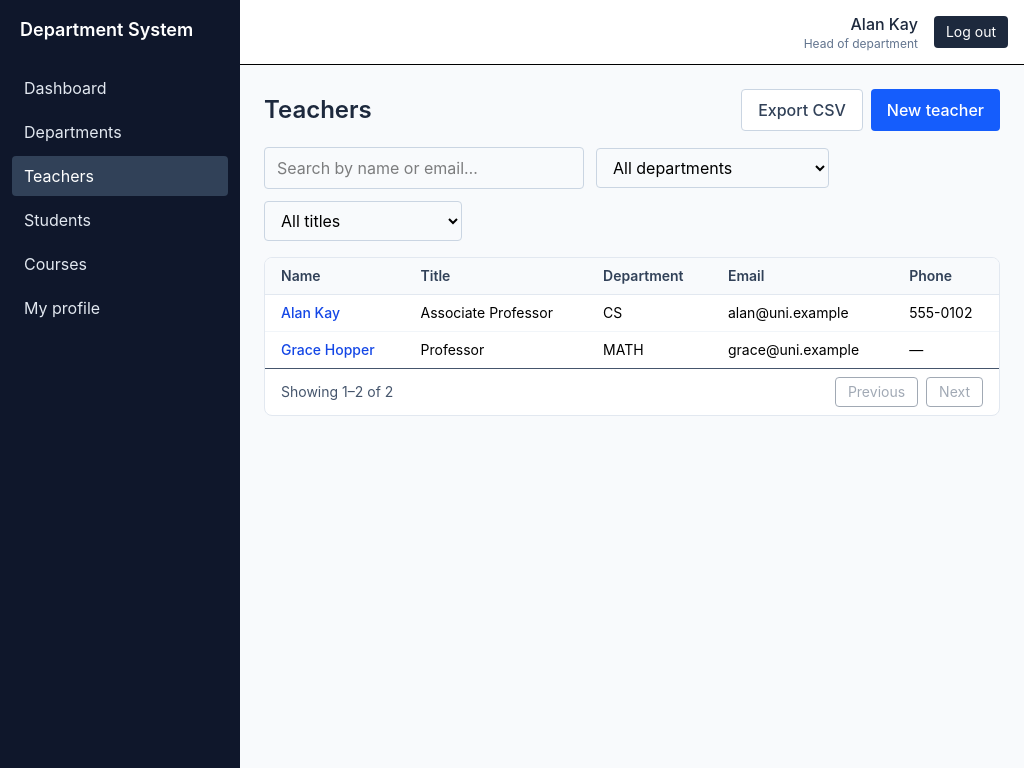
Test case: Teacher form (create) › a HOD can only pick their own department
Click the button "New teacher".
click(935, 110)  # box [871,89,1000,131]
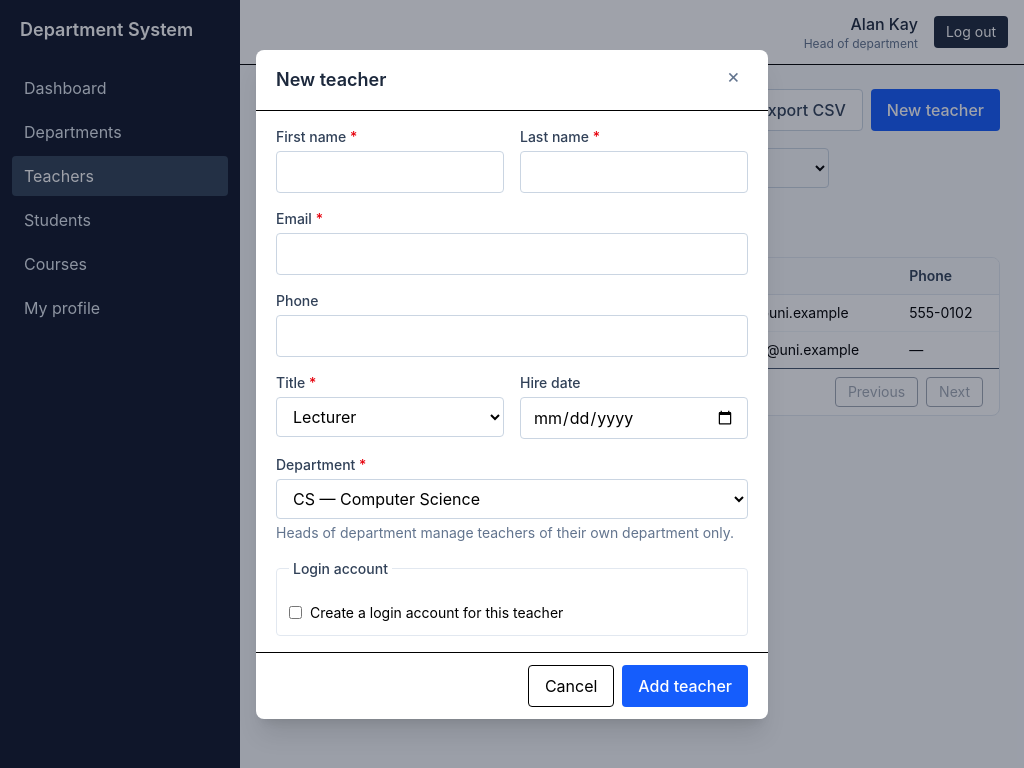
Expected: the dropdown labelled "Department *" shows "CS — Computer Science", [276,478,748,518]
Expected: the text "manage teachers of their own department only" is shown, [276,524,734,540]
